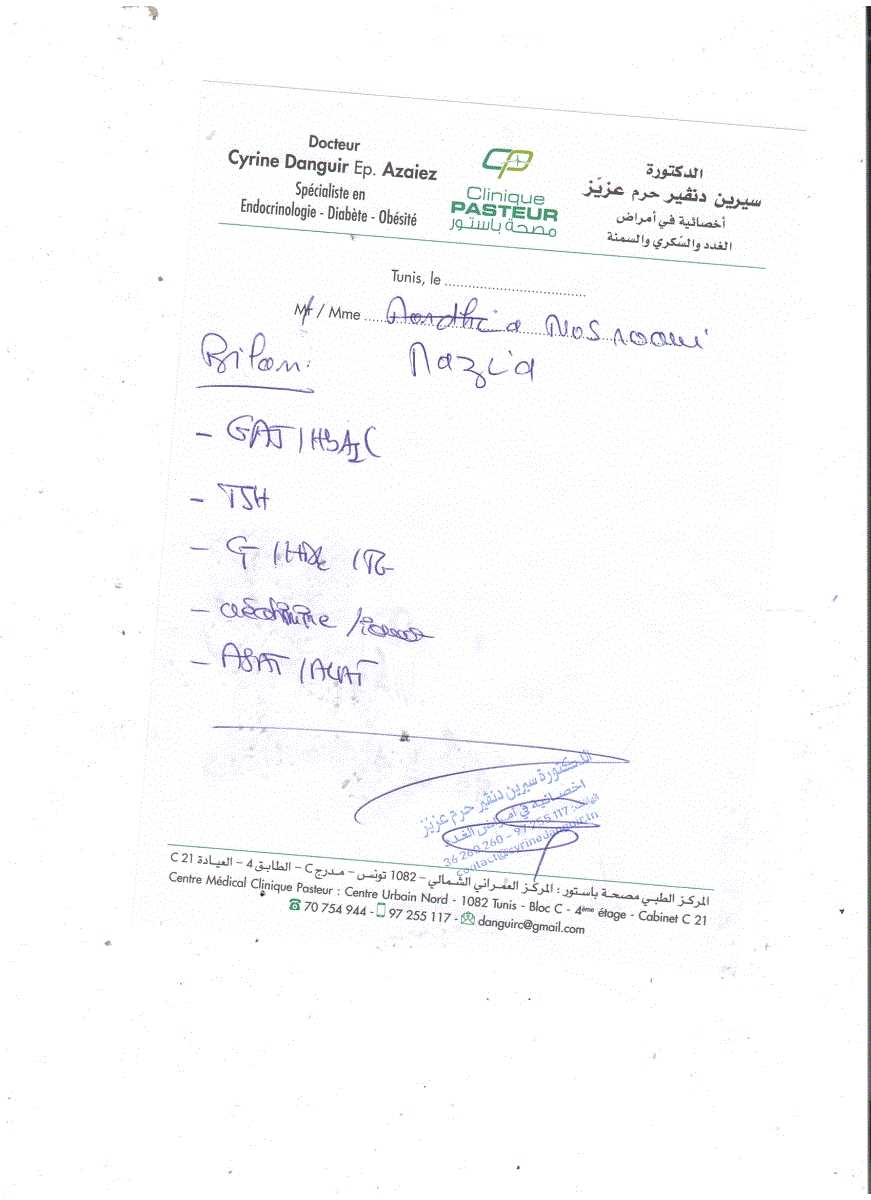zone_analyses: (186, 395, 444, 708), (416, 813, 599, 920)
zone_patient: (290, 297, 727, 387)
zone_prescripteur: (218, 103, 791, 261), (169, 855, 721, 966)
